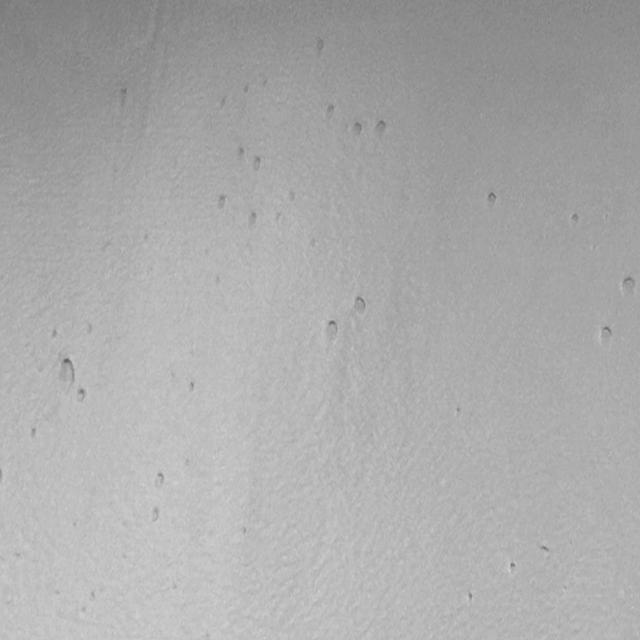pin holes: (320, 317, 342, 349), (616, 273, 638, 302), (54, 357, 76, 385), (595, 323, 615, 351), (310, 35, 330, 58), (349, 293, 368, 317), (113, 84, 131, 107), (144, 504, 163, 525), (233, 148, 251, 170), (483, 190, 500, 212), (247, 154, 264, 175), (214, 192, 230, 214), (72, 386, 88, 408), (150, 470, 166, 491), (371, 120, 388, 139), (350, 120, 366, 140), (245, 211, 260, 232), (567, 212, 582, 231), (322, 103, 336, 123), (184, 377, 198, 396), (535, 542, 551, 557), (232, 146, 245, 163), (28, 426, 40, 444), (270, 212, 282, 228), (286, 188, 296, 207), (47, 328, 59, 343), (451, 404, 462, 420), (505, 562, 517, 576), (464, 590, 476, 604), (87, 588, 96, 605), (85, 320, 92, 339), (309, 237, 316, 252)
